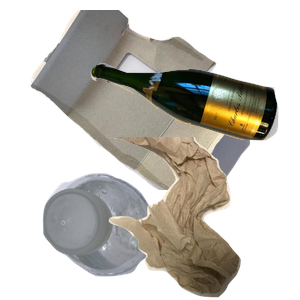glass: (88, 60, 300, 193)
paper: (28, 10, 268, 190)
plastic: (40, 170, 187, 300)
trash: (103, 137, 300, 300)
